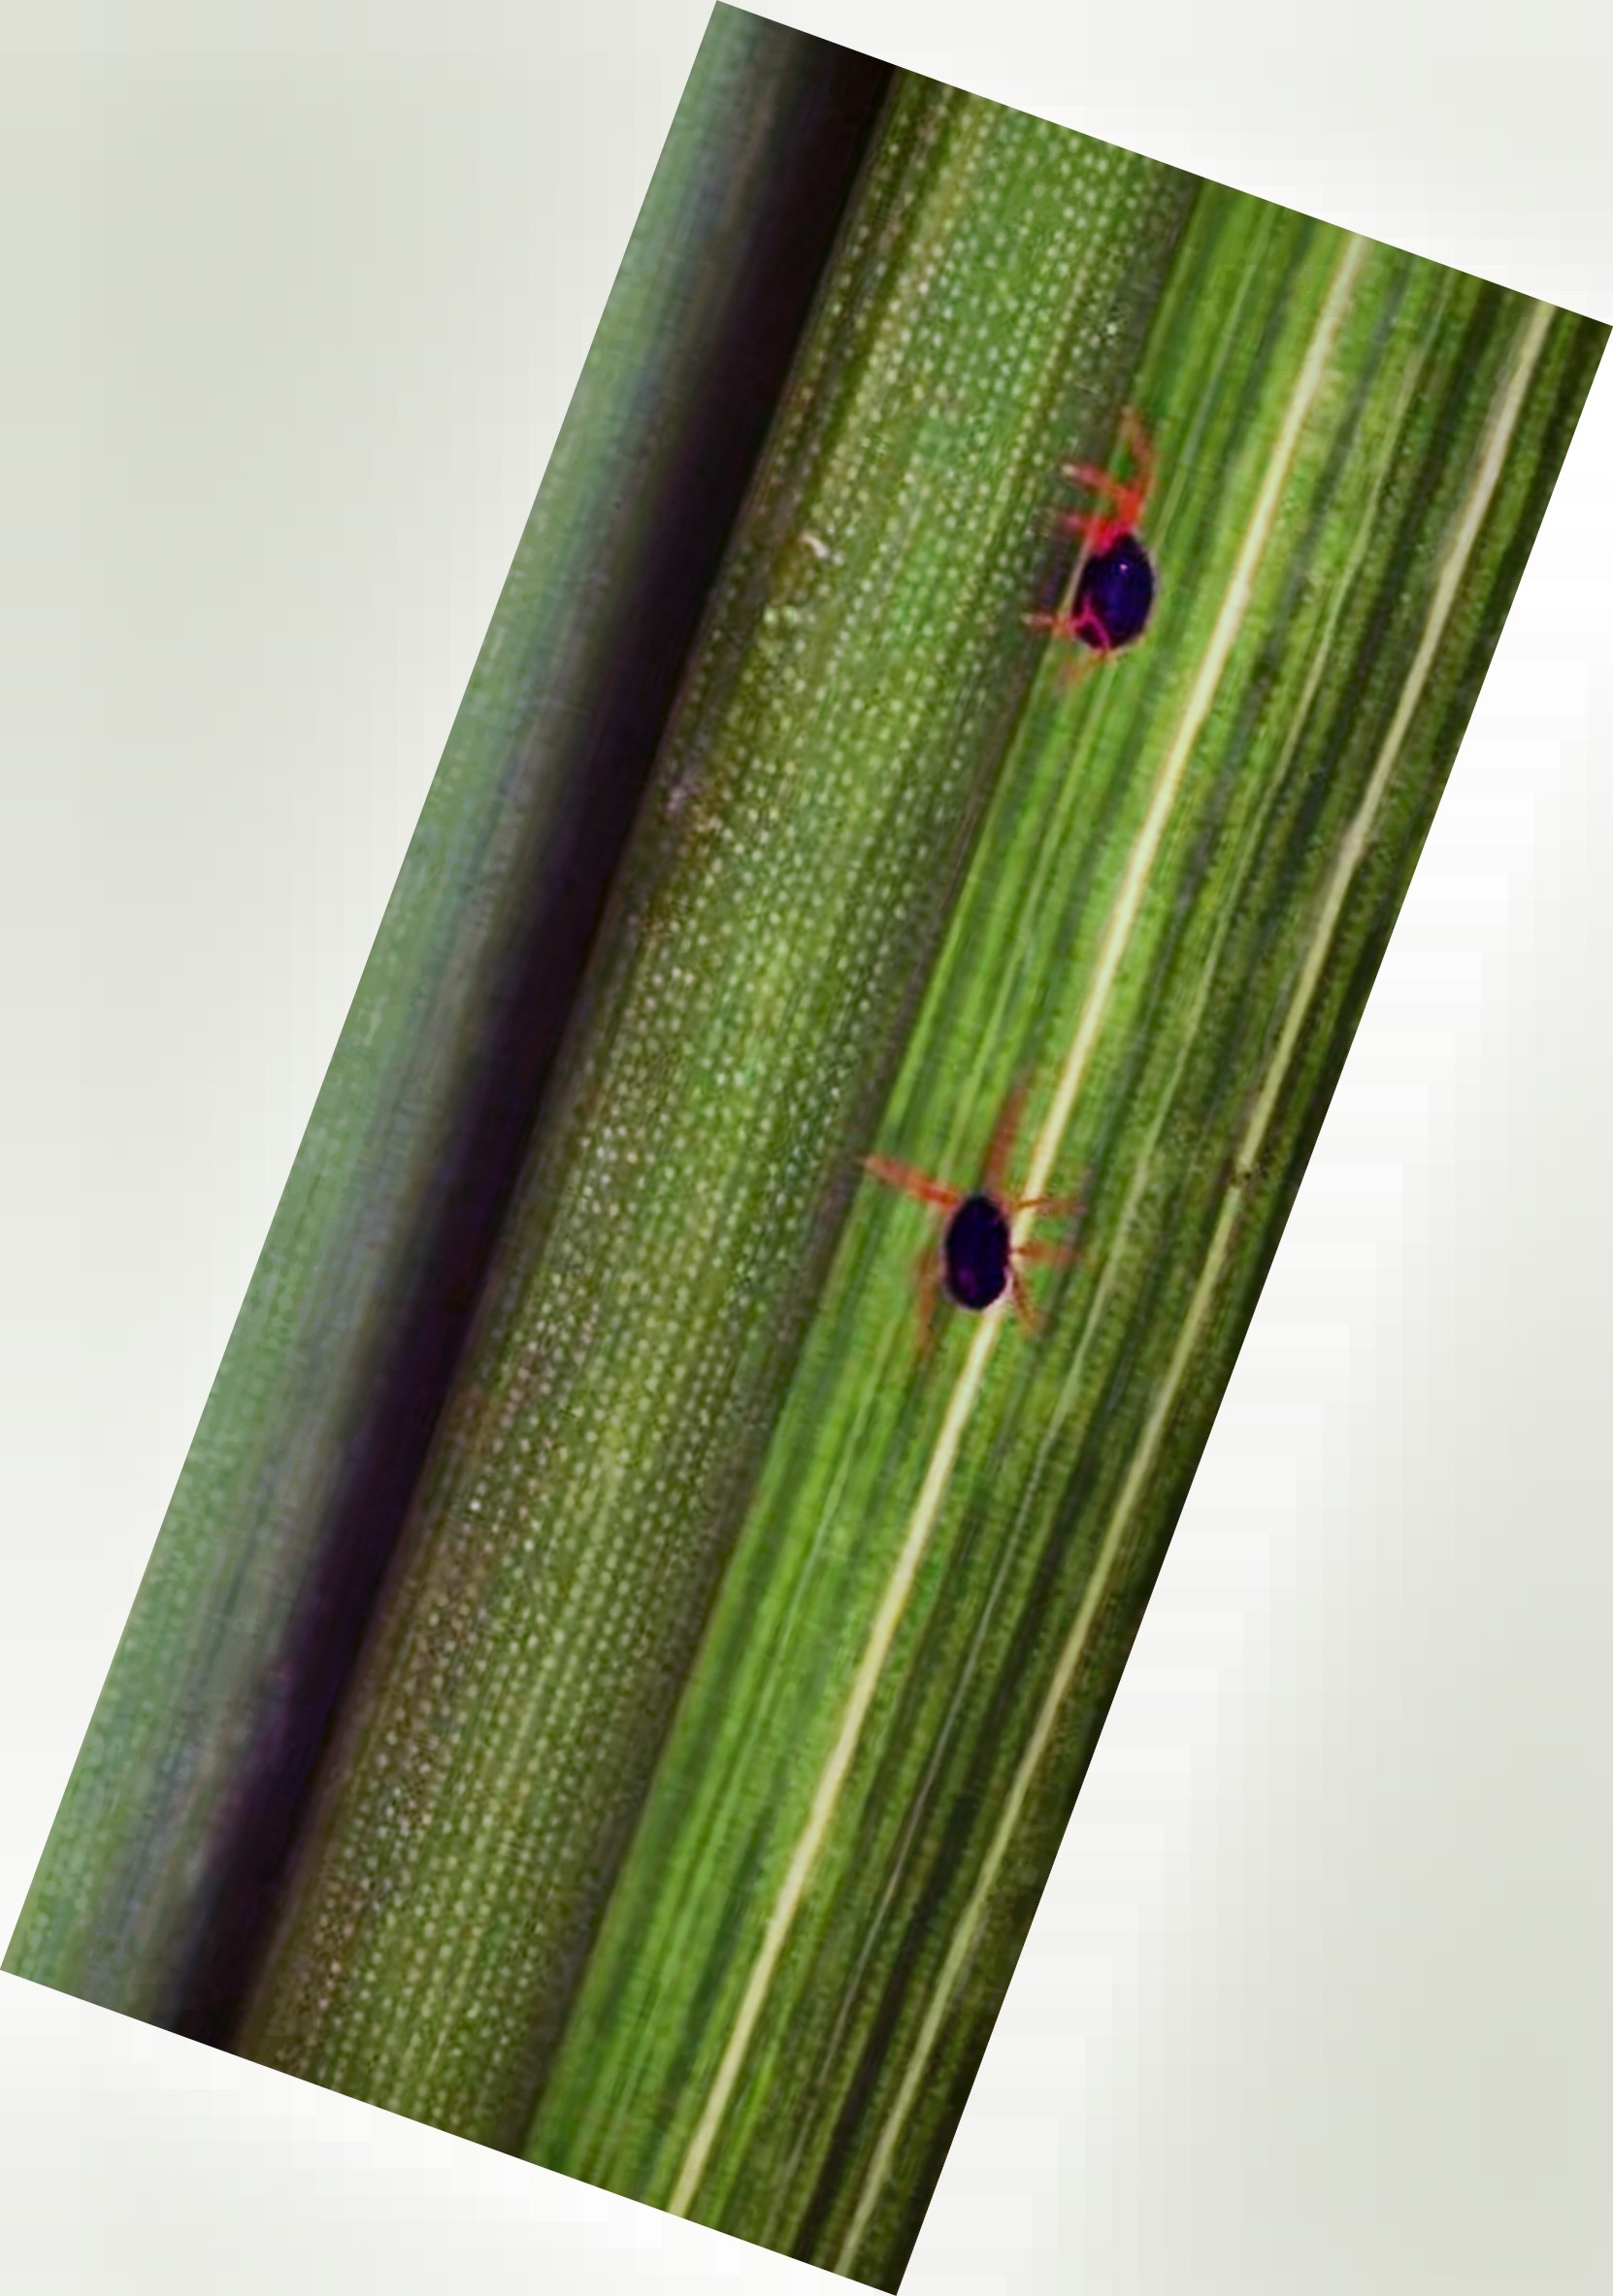Wheat Red Spider: (845, 1063, 1133, 1404)
